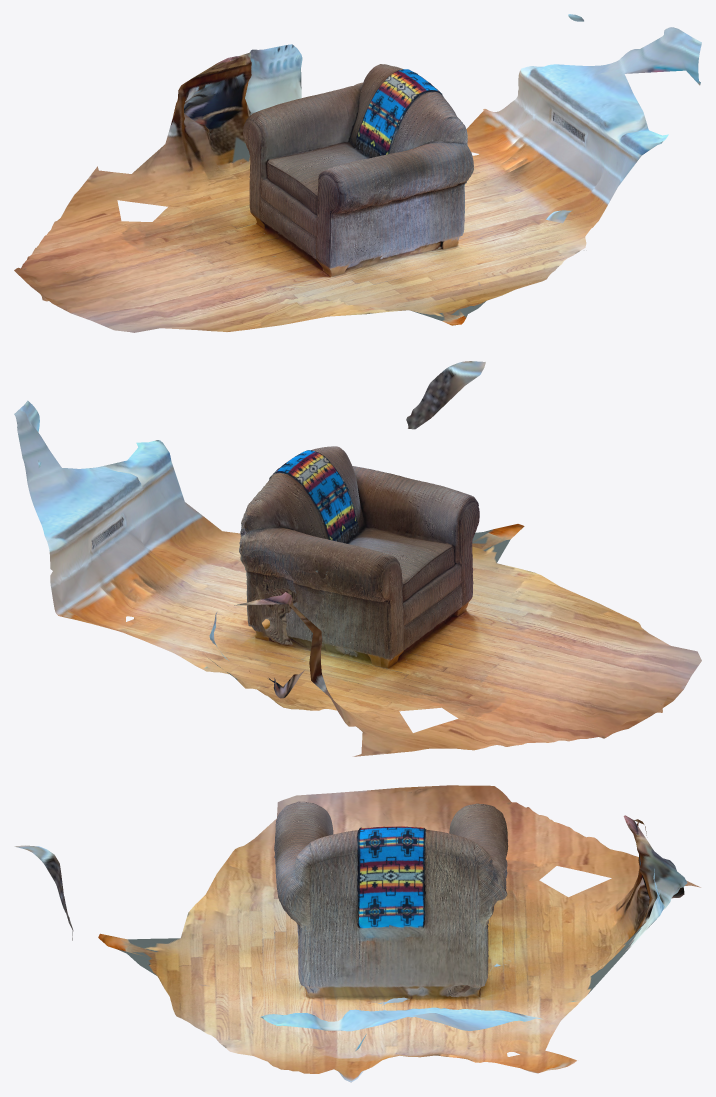
The model's file is chair.glb.
3 views of the same model, one above another, from view 1: azimuth 30°, elevation 25°; view 2: azimuth 150°, elevation 25°; view 3: azimuth 270°, elevation 25° (orthographic). The views are drawn at different scales.
Visible parts, largest first — view 1: Object_4; view 2: Object_4; view 3: Object_4.
Boxes of the visible parts, <box> form: Object_4: <box>14,14,701,332</box>; Object_4: <box>14,361,701,756</box>; Object_4: <box>14,785,700,1082</box>.
Size of the model in its own units: 4.28 by 1.02 by 3.47.
Materials: 1 (1 with a texture image).
